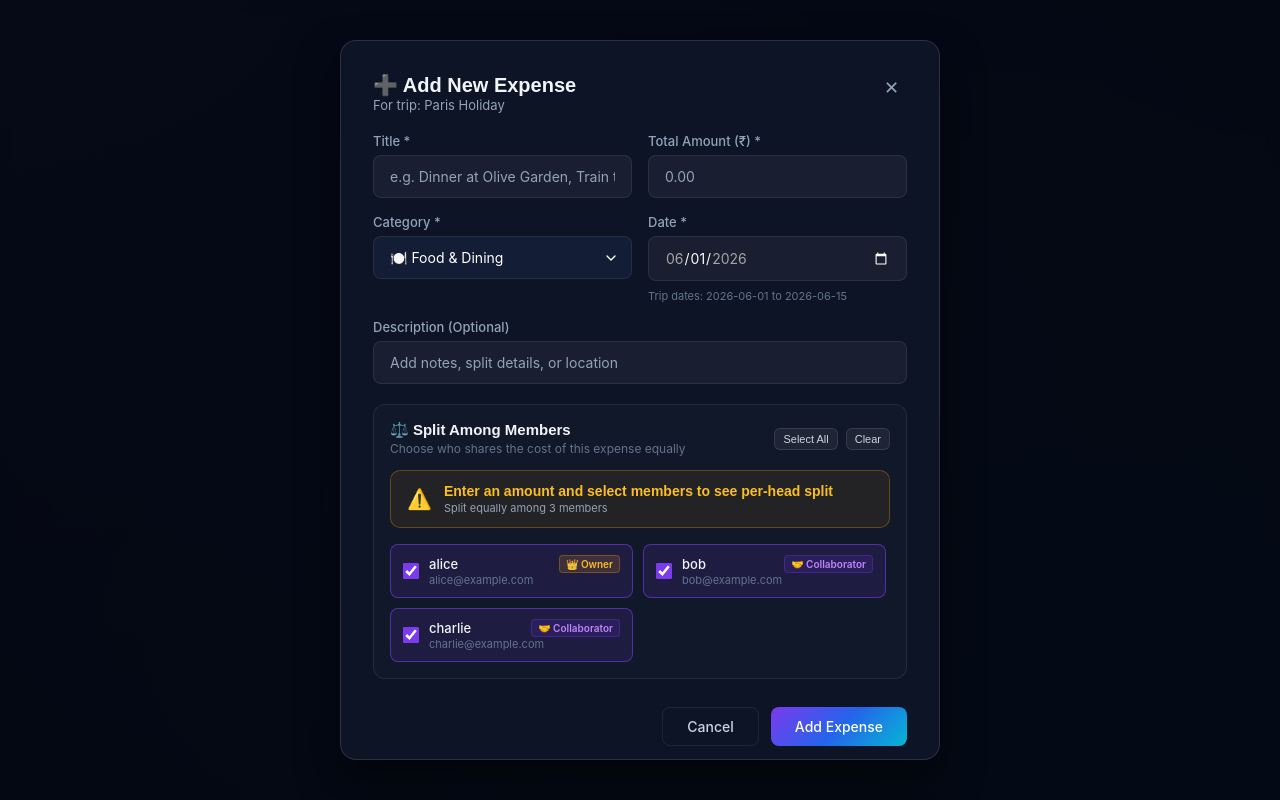
Test: CreateExpenseModal Component › updates dynamic split amount when a member checkbox is unselected
Check: the text "alice" is shown, box x1=429 y1=556 x2=458 y2=572
Type "1000" into the number field with placeholder "0.00". click: (778, 176)
box: x1=648 y1=155 x2=907 y2=198
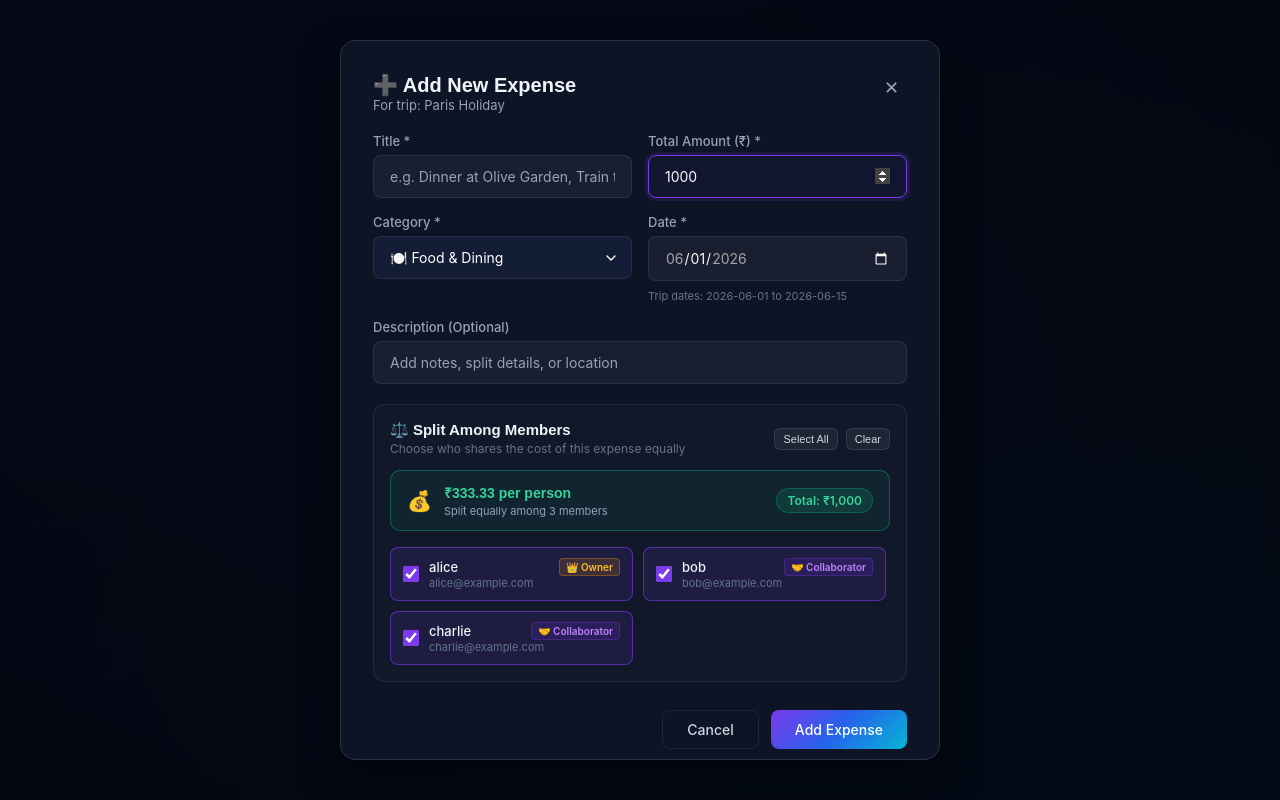
Unselect third member (charlie)
Click the checkbox labelled "charlie 🤝 Collaborator charlie@example.com". click: (411, 638)
box: x1=403 y1=630 x2=419 y2=646
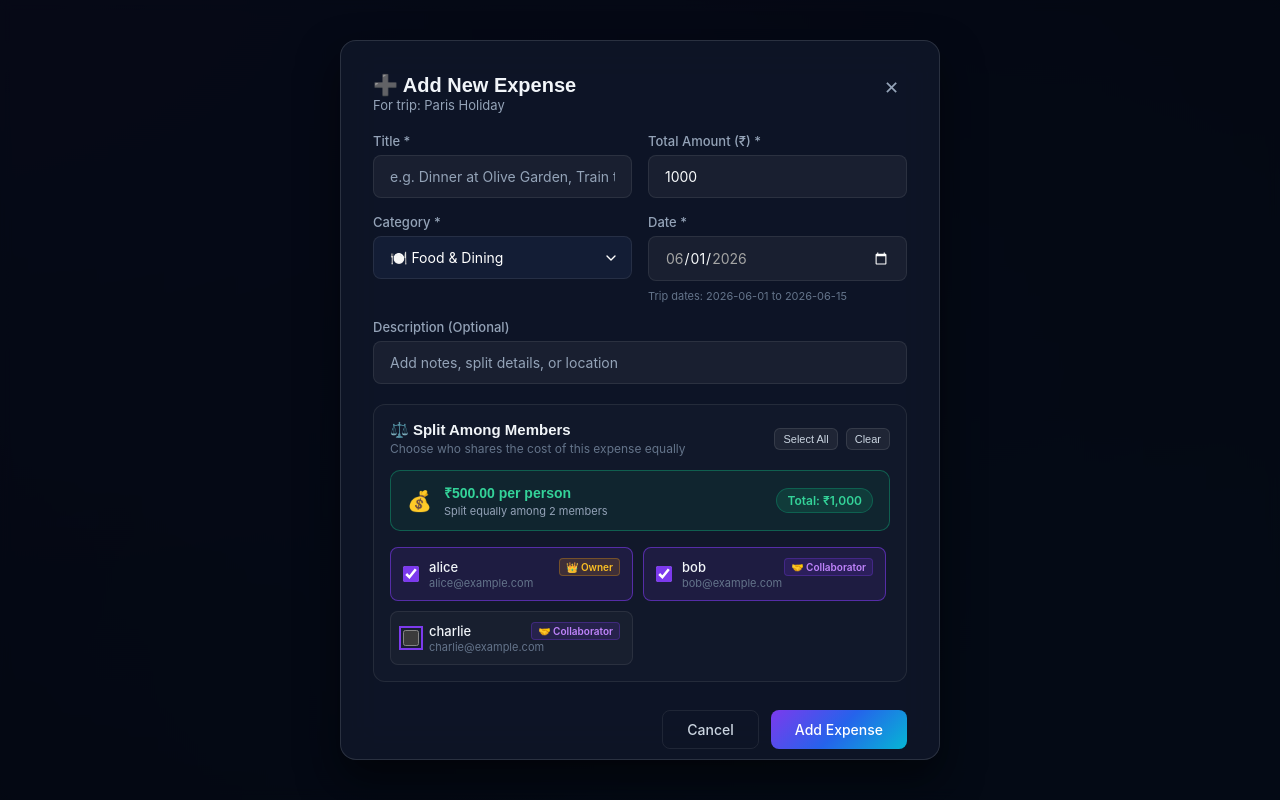
Check: the text "₹500.00 per person" is shown, box x1=444 y1=485 x2=571 y2=501
Check: the text "Split equally among 2 members" is shown, box x1=444 y1=504 x2=608 y2=518
